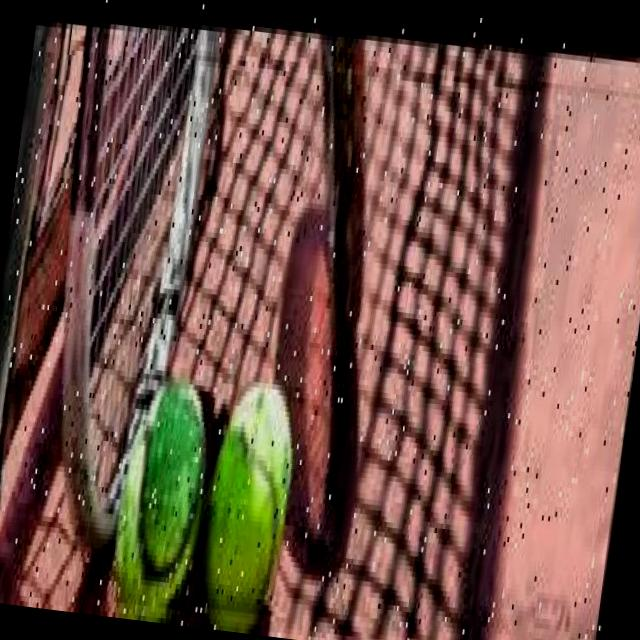Tennis Ball: (185, 362, 304, 632), (102, 362, 219, 622)
